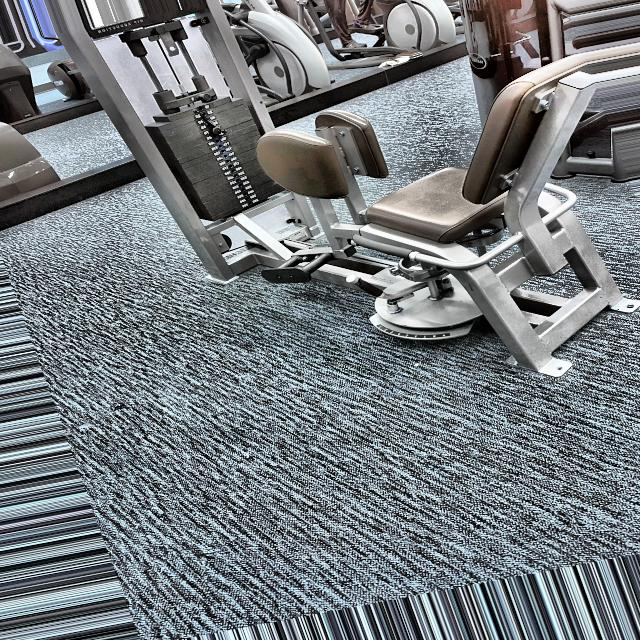hip_adduction_machine: (225, 60, 624, 363), (248, 98, 407, 305), (97, 18, 143, 34)
